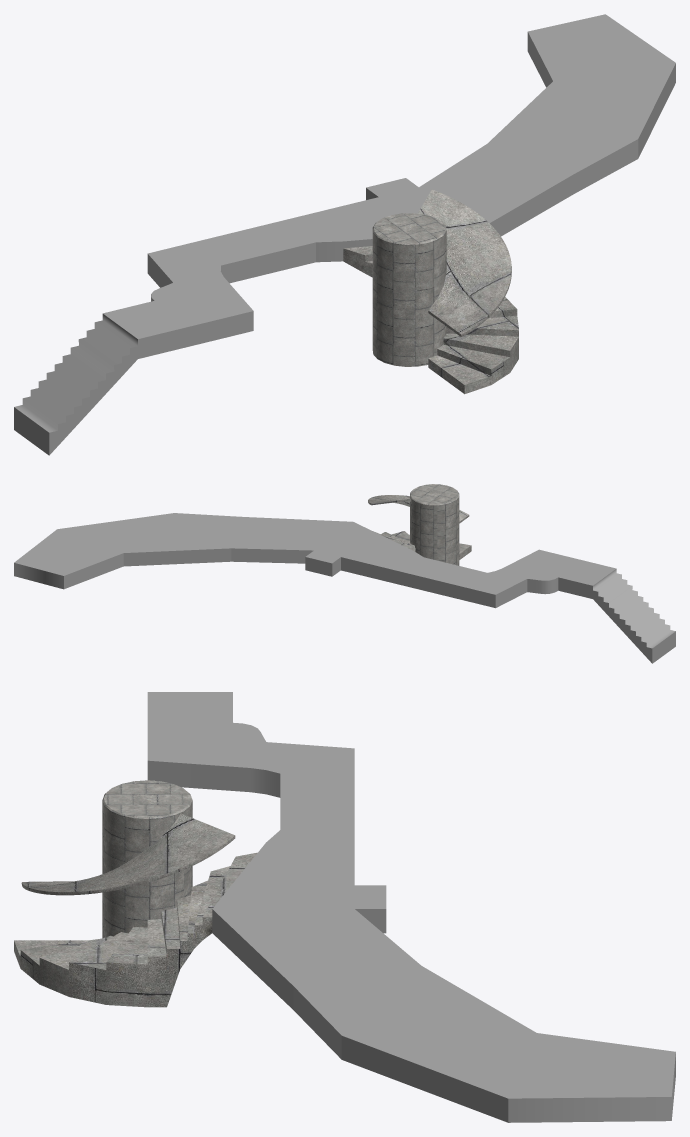
File: WestStair_005.fbx
3 views of the same model, one above another, from view 1: azimuth 30°, elevation 25°; view 2: azimuth 150°, elevation 25°; view 3: azimuth 270°, elevation 25° (orthographic). The views are drawn at different scales.
Parts seen in each view (by area): view 1: WestStair_main, Pillar, Cover, staircube; view 2: WestStair_main, Pillar, staircube, Cover; view 3: WestStair_main, staircube, Pillar, Cover.
Part boxes in pixels (x1,y1,x2,y2): WestStair_main: (14, 14, 675, 455); Pillar: (372, 213, 446, 366); Cover: (418, 189, 511, 336); staircube: (343, 246, 518, 394); WestStair_main: (14, 513, 675, 663); Pillar: (410, 484, 459, 565); staircube: (373, 531, 471, 559); Cover: (368, 495, 469, 523); WestStair_main: (147, 692, 675, 1122); staircube: (14, 852, 257, 1007); Pillar: (102, 780, 192, 938); Cover: (21, 813, 235, 895).
Bounding box in the file's own units: 8574 × 1474 × 5226.
